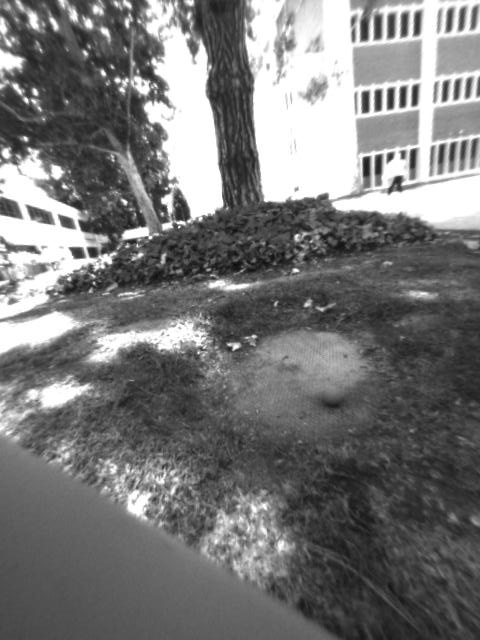dogtoy: (308, 377, 361, 413)
